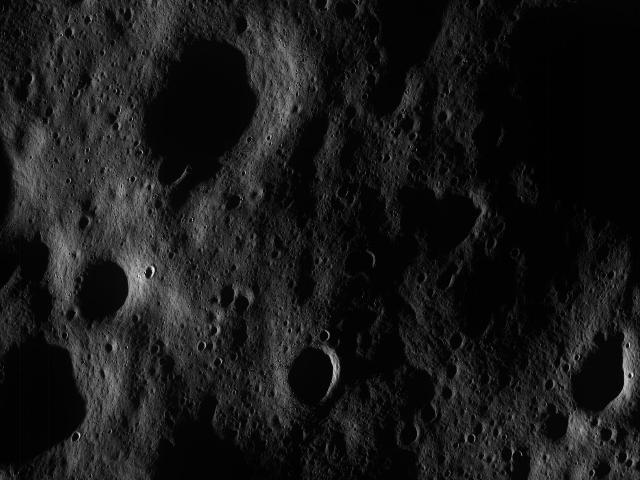crater: (462, 0, 640, 258), (119, 31, 291, 205), (0, 318, 110, 480), (128, 390, 322, 480), (348, 0, 470, 124), (386, 172, 489, 270), (567, 322, 635, 432), (66, 246, 136, 324), (0, 224, 60, 313), (280, 340, 338, 416), (389, 360, 445, 410), (282, 109, 330, 166), (150, 155, 193, 194), (540, 408, 580, 448), (212, 276, 254, 314), (498, 436, 534, 480), (396, 417, 424, 455), (348, 245, 380, 278), (328, 0, 362, 30), (0, 71, 38, 91), (417, 402, 448, 424), (193, 338, 225, 356), (448, 324, 468, 349), (441, 360, 464, 380), (142, 264, 160, 284), (438, 107, 457, 125)
